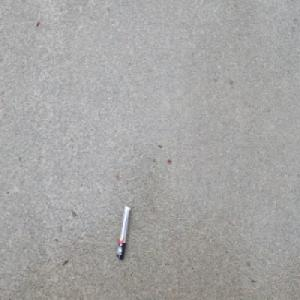Battery: (116, 203, 131, 261)
